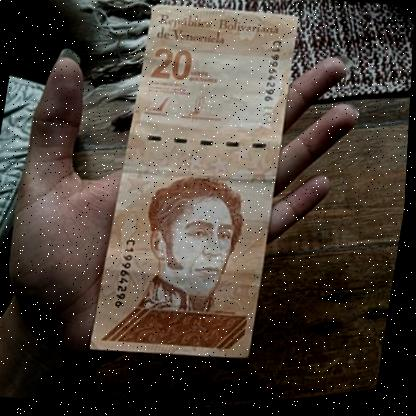twenty-front-vef: (89, 0, 304, 367)
